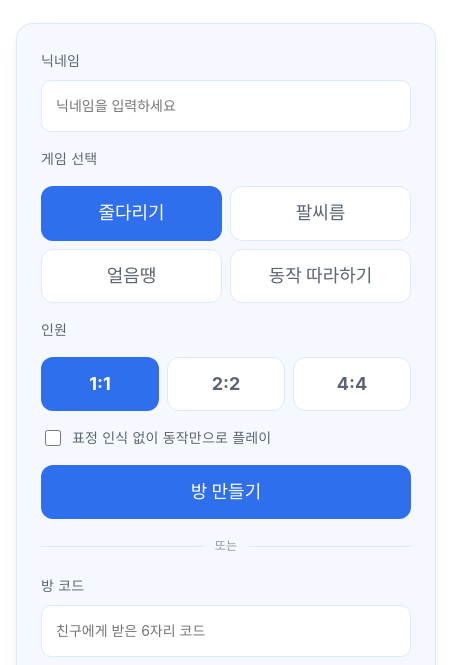
Test: Lobby: creating a room › re-enables right away when the server reports an error
Step 1. Click the button "방 만들기" → (226, 492), box [41,465,411,519]
(page scrolled)
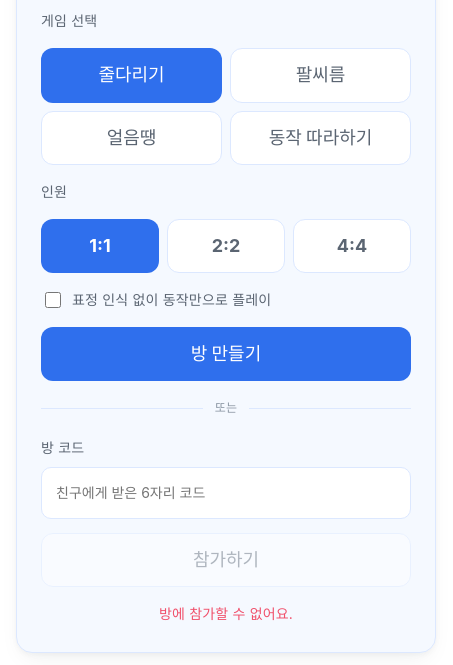
Expected: the button "방 만들기" is enabled, [41,327,411,381]
Expected: the message reads "방에 참가할 수 없어요.", [159,605,293,622]
